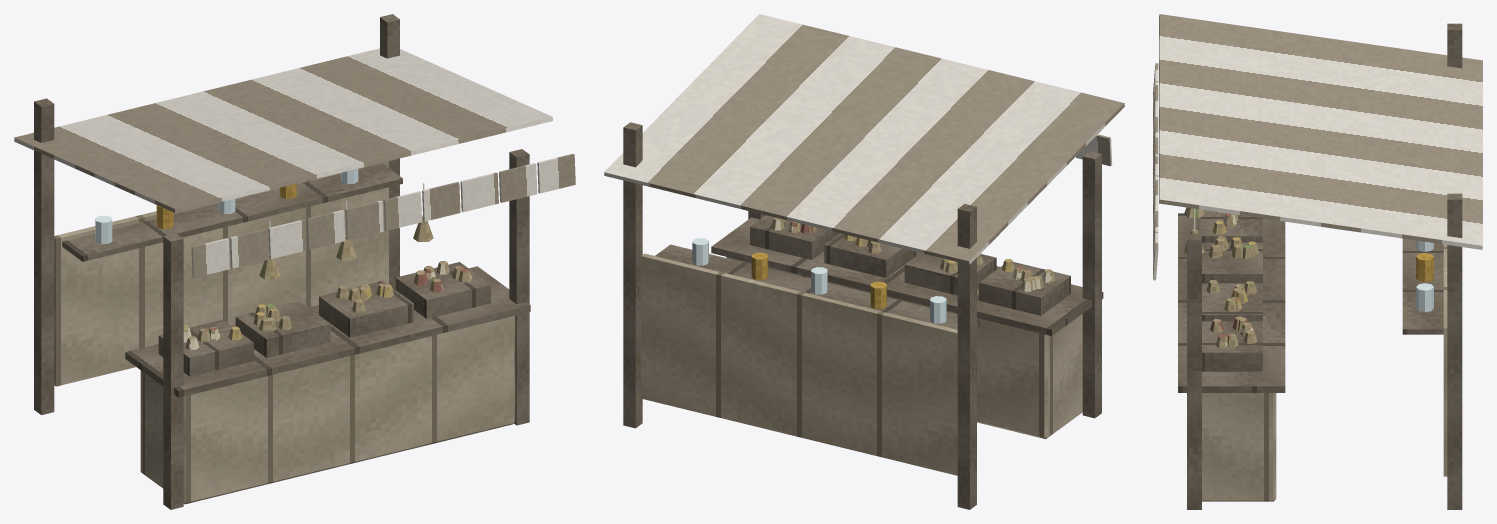
Rendered from market_stall.obj.
3 views of the same model, side by side, from view 1: azimuth 30°, elevation 25°; view 2: azimuth 150°, elevation 25°; view 3: azimuth 270°, elevation 25° (orthographic). The views are drawn at different scales.
Visible parts, largest first — view 1: market_stall; view 2: market_stall; view 3: market_stall.
Part boxes in pixels (box(x1,y1,x2,y2)): market_stall: box(14, 14, 575, 509); market_stall: box(604, 14, 1124, 509); market_stall: box(1153, 14, 1482, 509).
Bounding box in the file's own units: 3.11 × 2.34 × 2.22.
